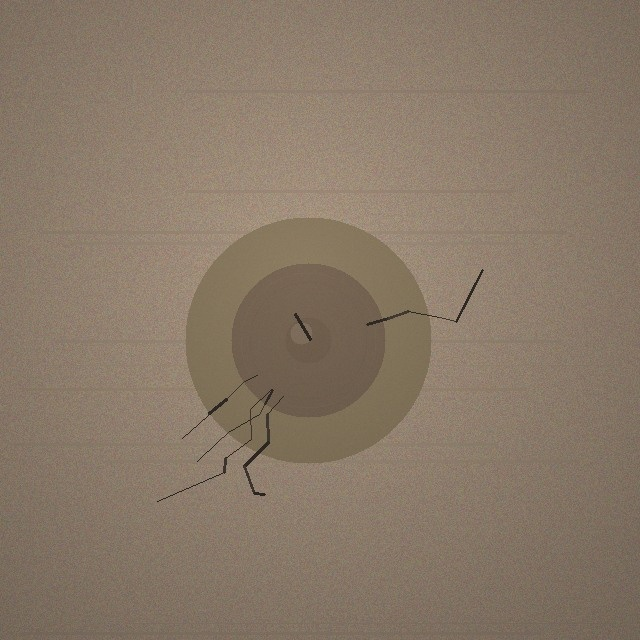crack: (185, 217, 431, 463)
